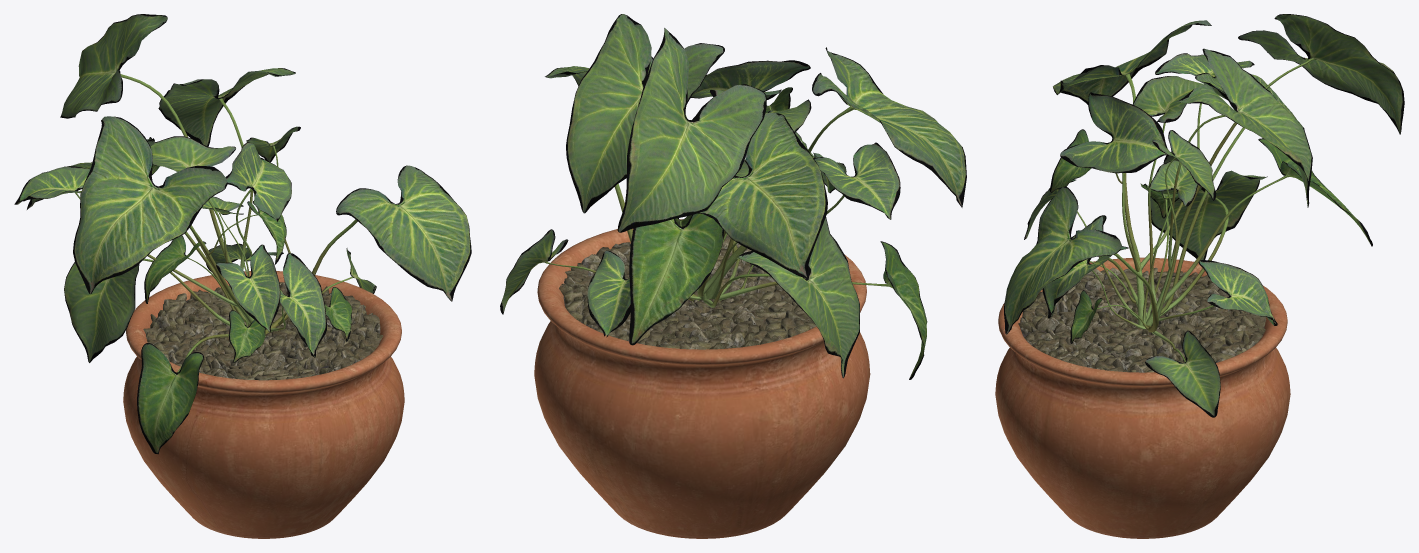
The model's file is potted_plant_02.glb.
3 views of the same model, side by side, from view 1: azimuth 30°, elevation 25°; view 2: azimuth 150°, elevation 25°; view 3: azimuth 270°, elevation 25° (orthographic). The views are drawn at different scales.
Visible parts, largest first — view 1: potted_plant_02_leaves, potted_plant_02_pot, potted_plant_02_dirt; view 2: potted_plant_02_leaves, potted_plant_02_pot, potted_plant_02_dirt; view 3: potted_plant_02_leaves, potted_plant_02_pot, potted_plant_02_dirt.
Part boxes in pixels (box(x1,y1,x2,y2)): potted_plant_02_leaves: box(14, 14, 471, 454); potted_plant_02_pot: box(123, 271, 404, 538); potted_plant_02_dirt: box(143, 282, 383, 380); potted_plant_02_leaves: box(500, 14, 966, 379); potted_plant_02_pot: box(534, 219, 870, 538); potted_plant_02_dirt: box(559, 234, 816, 349); potted_plant_02_leaves: box(1004, 14, 1404, 417); potted_plant_02_pot: box(995, 257, 1290, 538); potted_plant_02_dirt: box(1018, 267, 1266, 372).
Bounding box in the file's own units: 0.7012 × 0.8412 × 0.6574.
2 materials, 2 textured.
